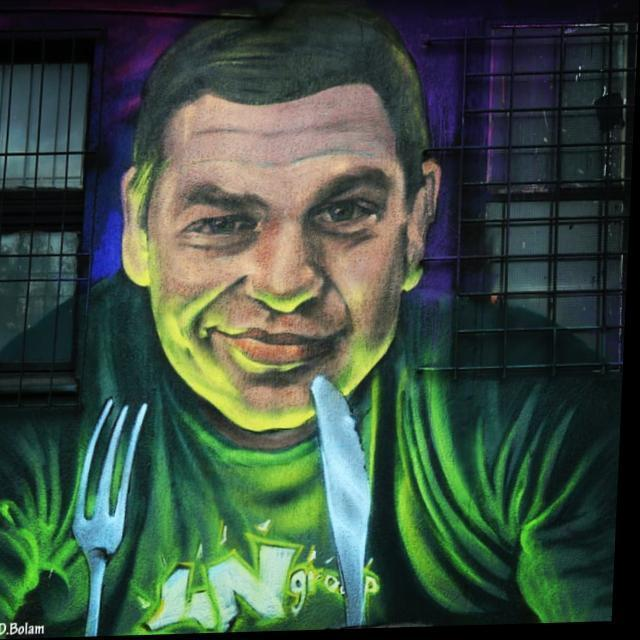-: (0, 1, 629, 640), (158, 528, 307, 631)
